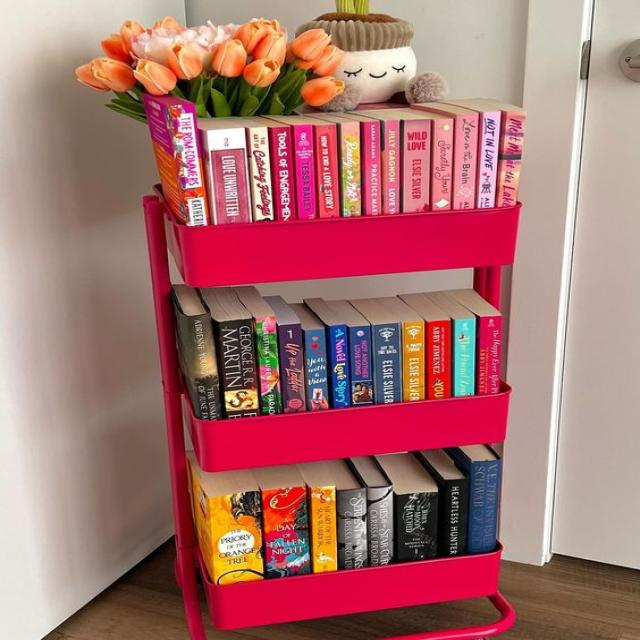book: (208, 491, 263, 586), (168, 102, 210, 226), (263, 486, 311, 580), (207, 128, 252, 225), (219, 318, 258, 419), (186, 313, 222, 420), (466, 460, 502, 555), (397, 493, 438, 563), (497, 110, 526, 207), (335, 488, 367, 571), (255, 314, 281, 415), (402, 119, 430, 212), (279, 323, 306, 413), (270, 127, 296, 220), (372, 322, 401, 405), (454, 113, 478, 209), (477, 112, 501, 207), (249, 127, 273, 222), (293, 125, 317, 219), (315, 124, 338, 219), (367, 485, 393, 567), (313, 485, 337, 573), (476, 316, 502, 395), (349, 325, 373, 407), (433, 118, 454, 210), (305, 328, 328, 411), (401, 321, 424, 402), (427, 320, 450, 399), (342, 122, 360, 217), (363, 120, 381, 215), (445, 479, 466, 557), (383, 120, 400, 215), (330, 324, 349, 409), (455, 318, 475, 396)
flowers: (74, 13, 347, 102)
